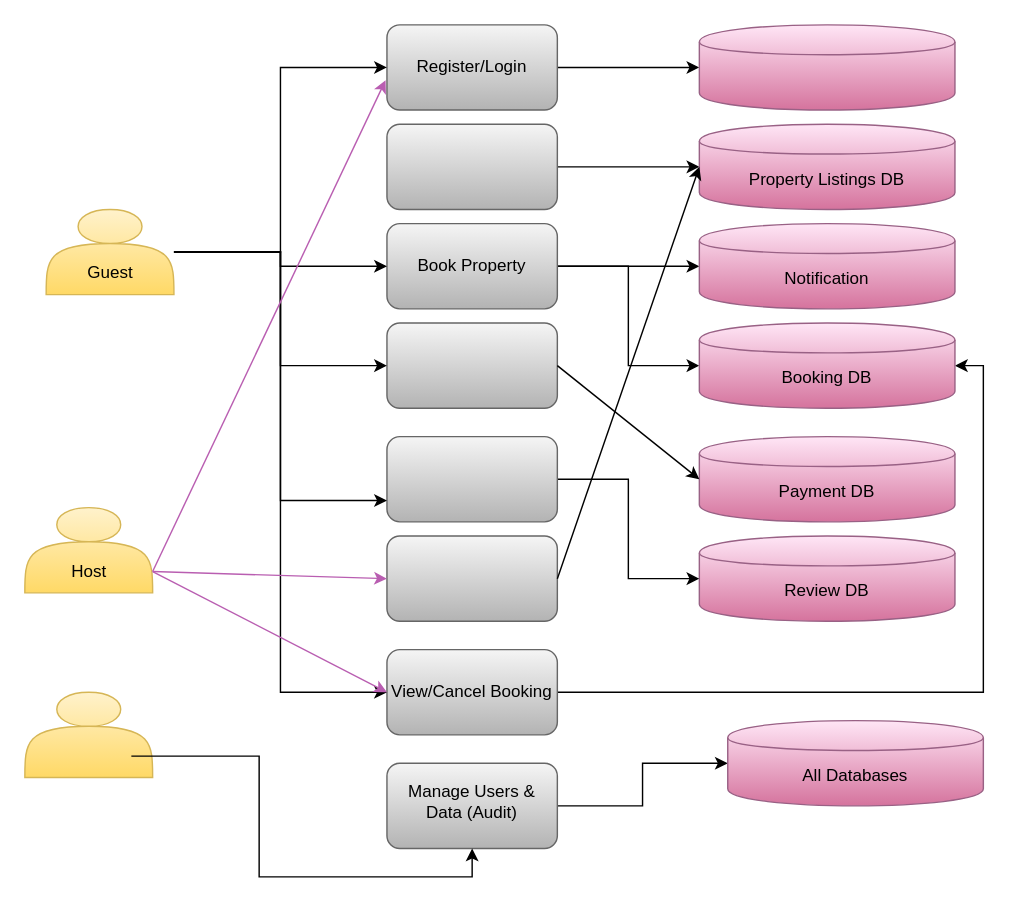
Image size: 1020x913. Some labels were removed from this diagram. Each missing label, with the box of its shape:
Admin: (23, 691, 153, 777)
Leave Review: (386, 435, 557, 522)
Make Payment: (386, 322, 557, 408)
Manage Listings: (386, 535, 557, 621)
Search Property: (386, 123, 557, 209)
User Database: (698, 23, 955, 110)
